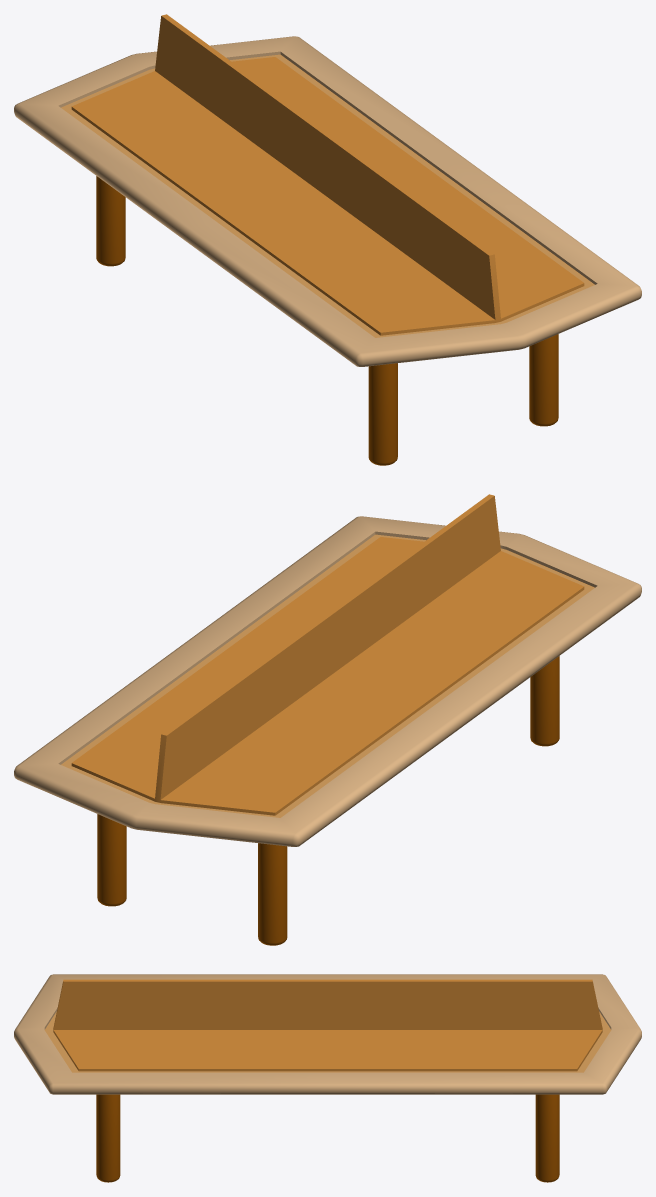
The model's file is Meeting Desk04.fbx.
3 renders of one model, top to bottom at view 1: azimuth 30°, elevation 25°; view 2: azimuth 150°, elevation 25°; view 3: azimuth 270°, elevation 25°, orthographic. The views are drawn at different scales.
Parts seen in each view (by area): view 1: Meeting Desk04; view 2: Meeting Desk04; view 3: Meeting Desk04.
Part boxes in pixels (bbox=[...]): Meeting Desk04: bbox=[14, 14, 641, 465]; Meeting Desk04: bbox=[14, 494, 641, 945]; Meeting Desk04: bbox=[14, 974, 641, 1182].
Bounding box in the file's own units: 1.18 × 2.78 × 0.8139.
